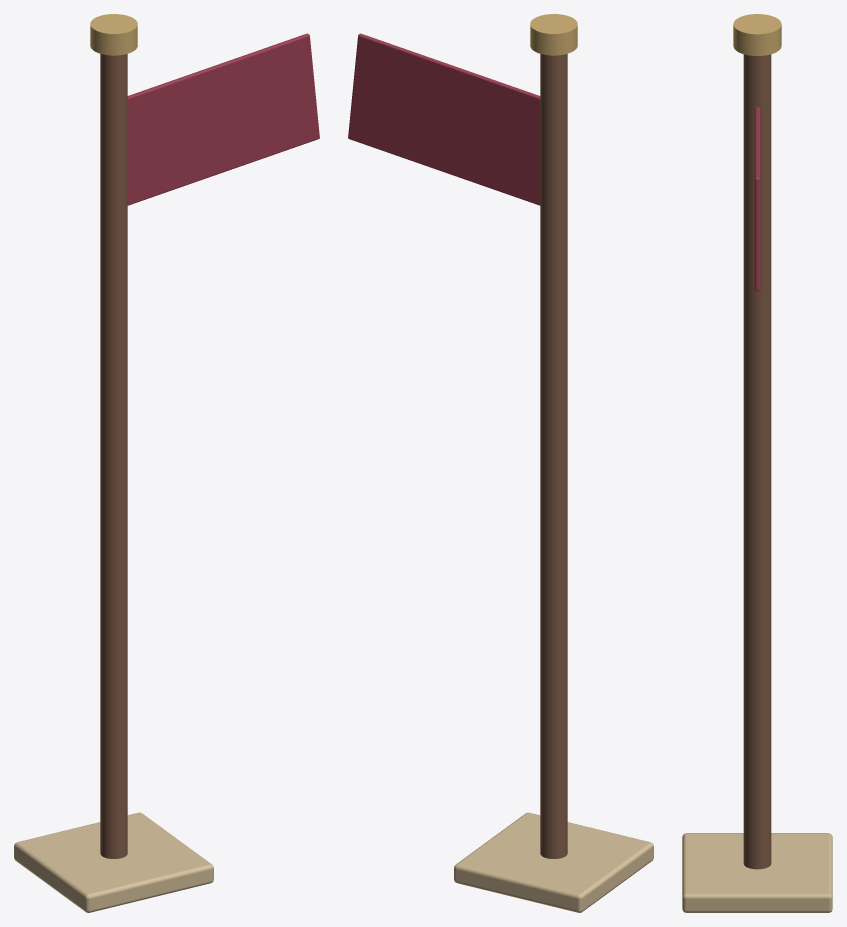
Rendered from griffin-airmail-roost-and-posthouse-wind-direction-pen-475c079a__30534.glb.
The picture shows the model from 3 angles, left to right: view 1: azimuth 30°, elevation 25°; view 2: azimuth 150°, elevation 25°; view 3: azimuth 270°, elevation 25°; orthographic projection.
Visible parts, largest first — view 1: wind-direction-pennant; view 2: wind-direction-pennant; view 3: wind-direction-pennant.
Part boxes in pixels (x1=…): wind-direction-pennant: x1=14, y1=14, x2=319, y2=912; wind-direction-pennant: x1=348, y1=14, x2=653, y2=912; wind-direction-pennant: x1=682, y1=14, x2=832, y2=912.
Bounding box in the file's own units: 0.5237 × 1.58 × 0.25.
